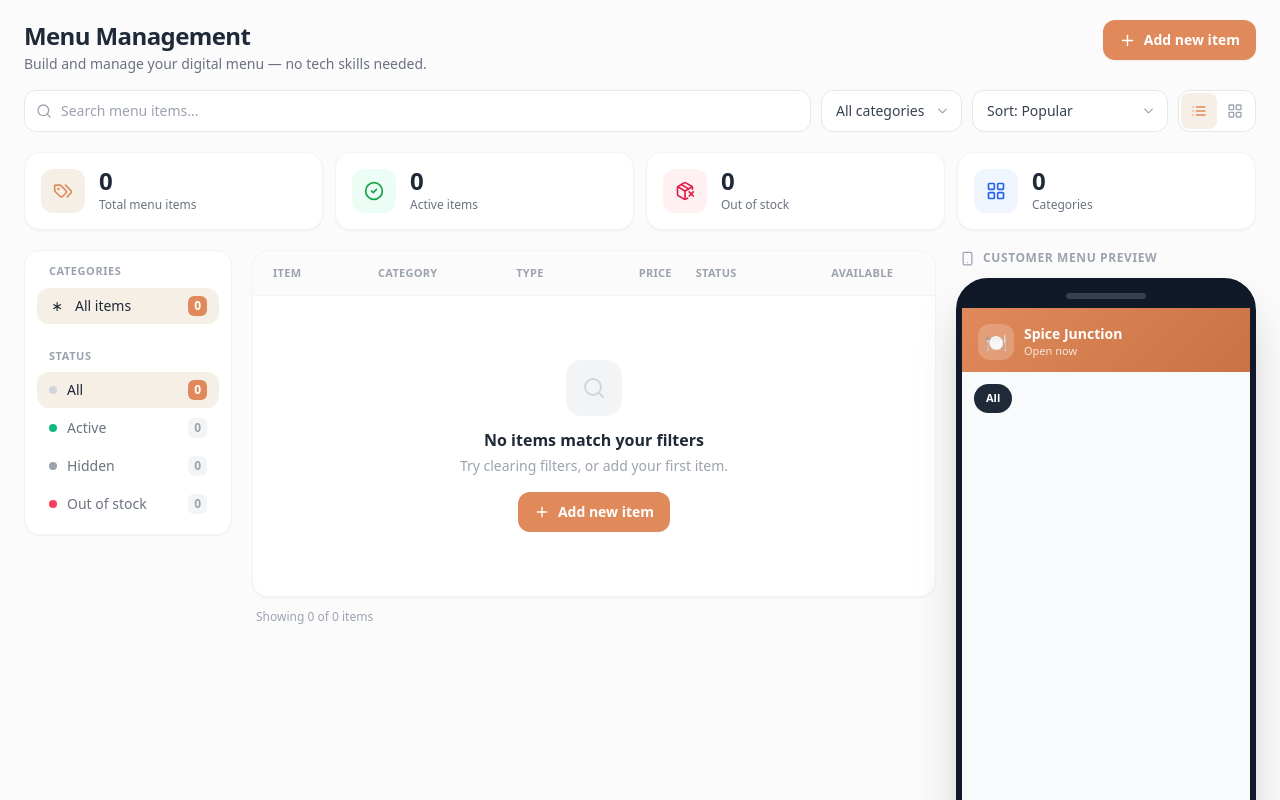
it: MenuItems add/edit modal (hook-order regression) › opens the Add-item modal without a hooks error
The width and height of the screenshot is (1280, 800).
Click the text "Add new item" at (1192, 40), box [1144,30,1240,50]
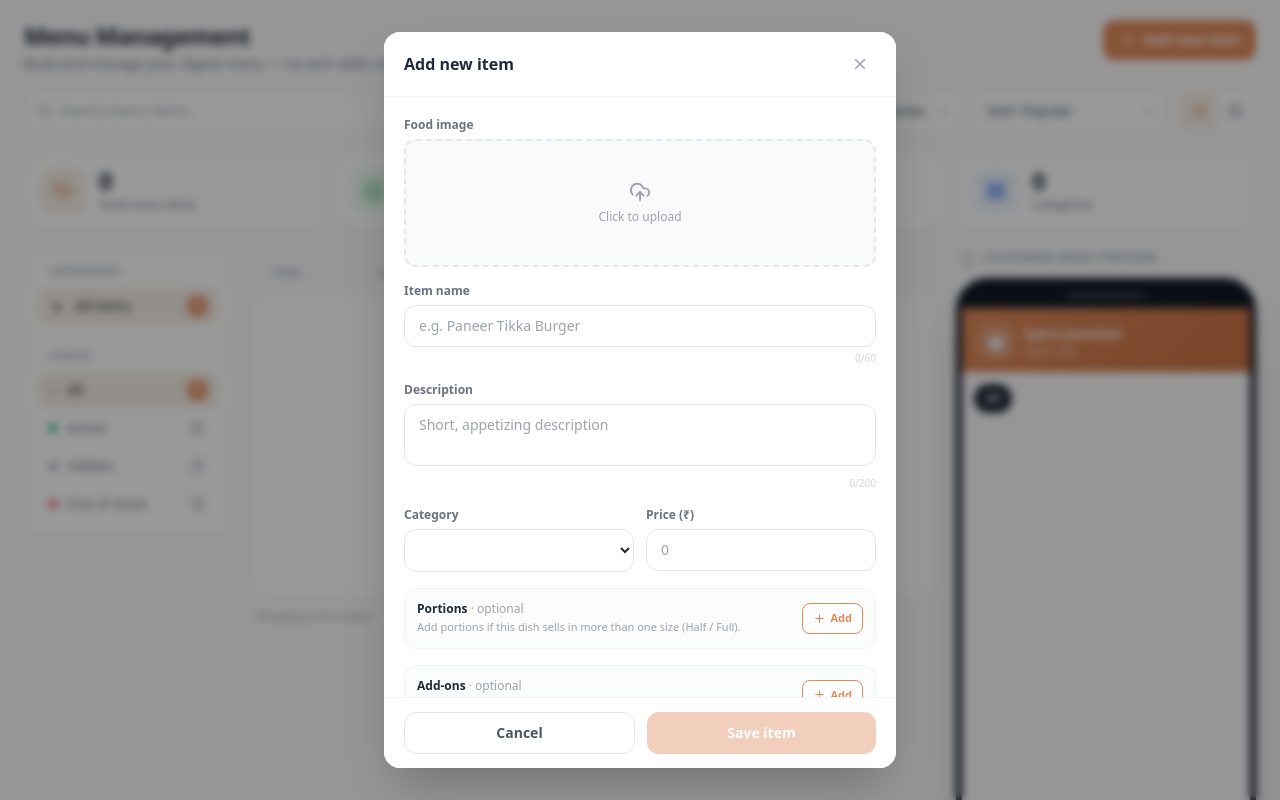
Now the field with placeholder "e.g. Paneer Tikka Burger" is shown, box [404,305,876,347]
